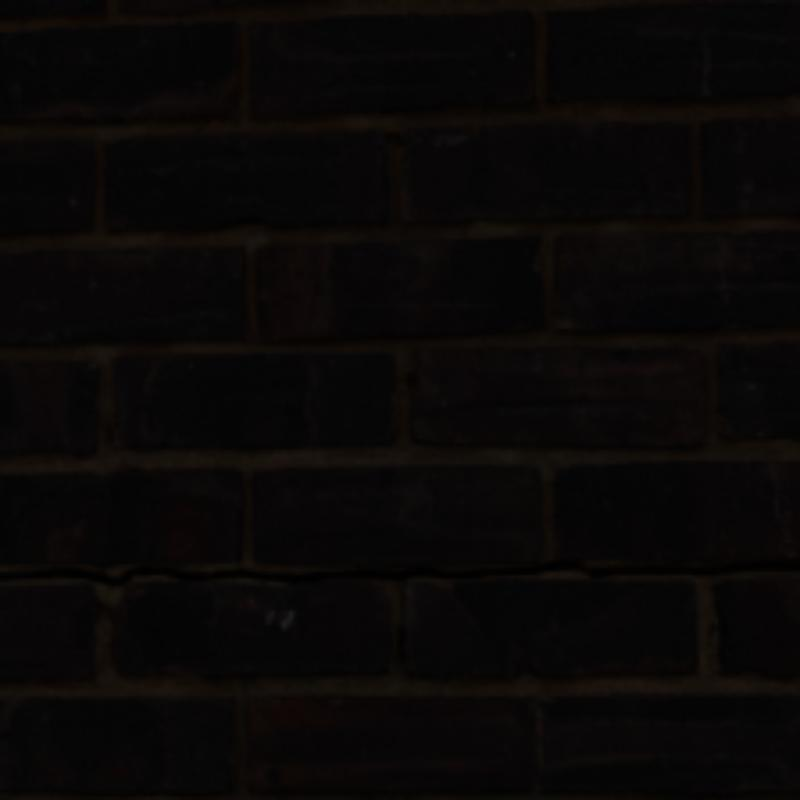pothole: (0, 557, 796, 586)
